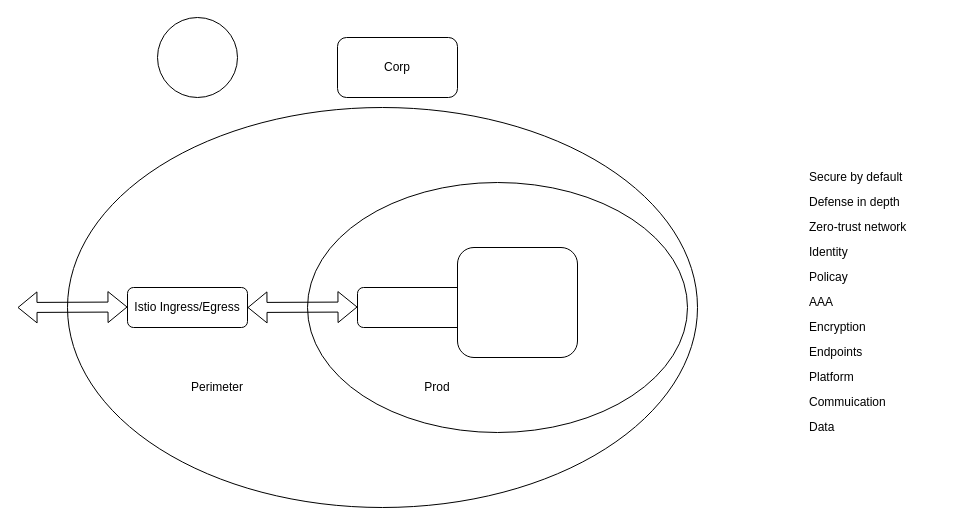
Some shapes in this 964 by 525 pixel diagram are drawn without their labels. The shapes that lost their labels are listed below. From the top down, each one's centre as x and y in pixels, then its label:
At point (197, 57): "Internet".
At point (417, 307): "Istio sidecar".
